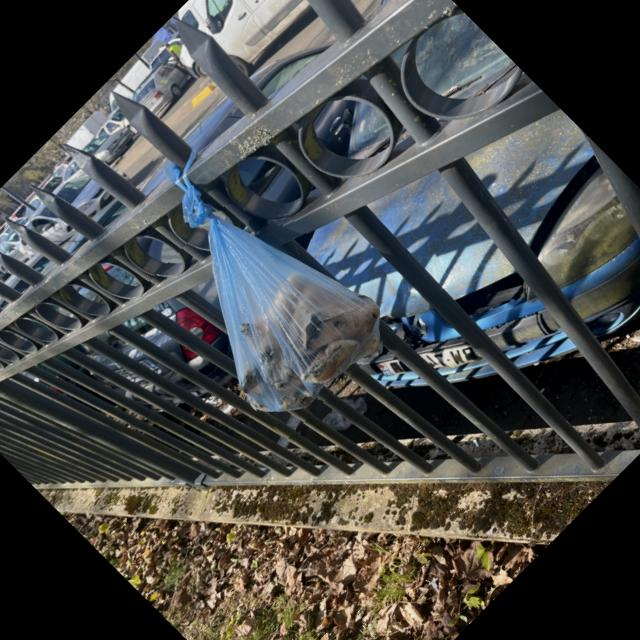Garbage bag: (208, 217, 380, 412)
